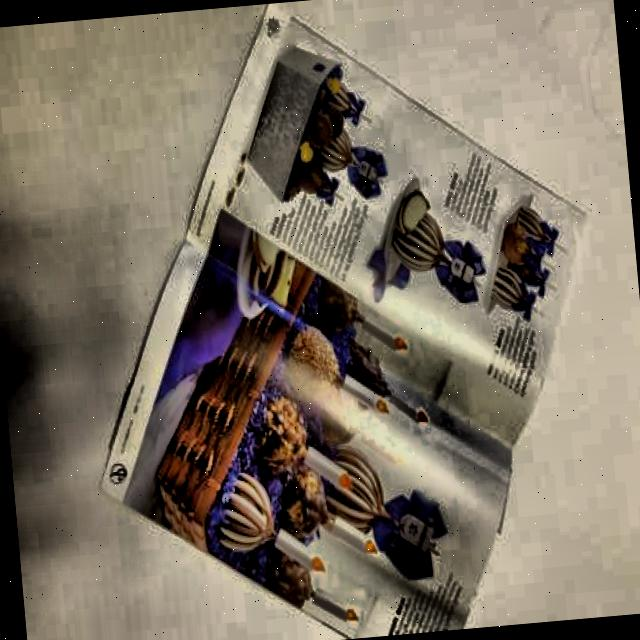paper: (95, 0, 598, 640)
